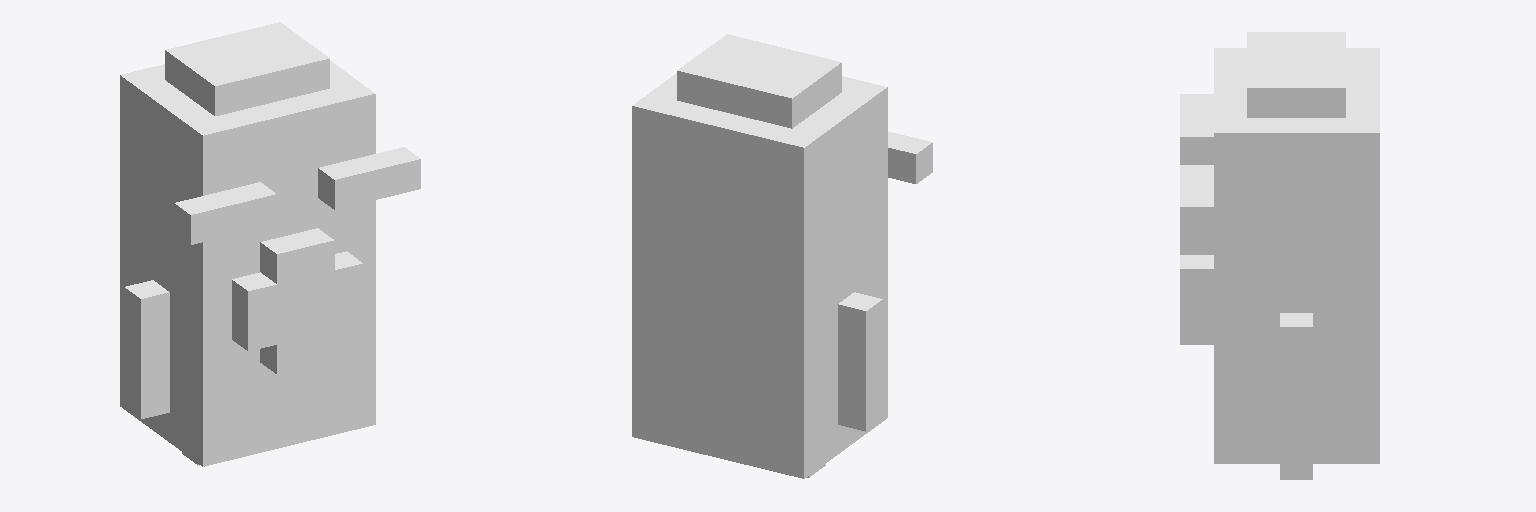
File: chr_old_idle.obj
3 views of the same model, side by side, from view 1: azimuth 30°, elevation 25°; view 2: azimuth 150°, elevation 25°; view 3: azimuth 270°, elevation 25° (orthographic).
Parts seen in each view (by area): view 1: chr_old_idle; view 2: chr_old_idle; view 3: chr_old_idle.
Boxes of the visible parts, <box> form: chr_old_idle: <box>120,22,420,466</box>; chr_old_idle: <box>632,34,932,478</box>; chr_old_idle: <box>1180,32,1379,479</box>.
Size of the model in its own units: 8 by 13 by 6.